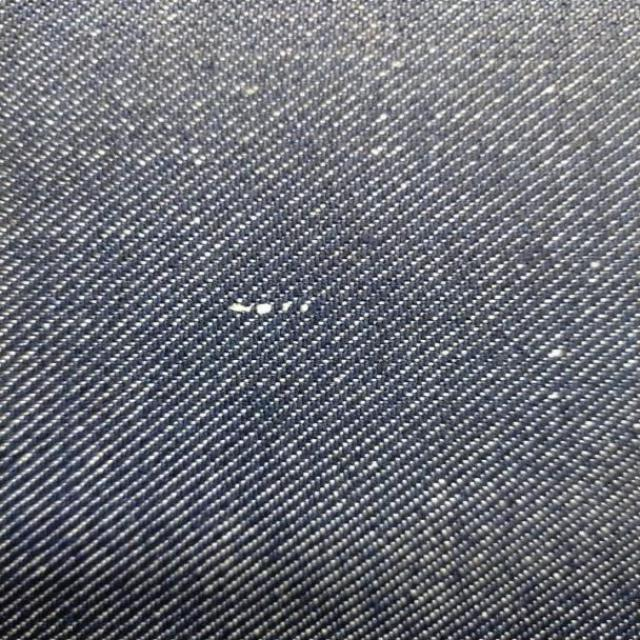Knot: (228, 302, 275, 315), (280, 301, 296, 313), (297, 301, 311, 314)
